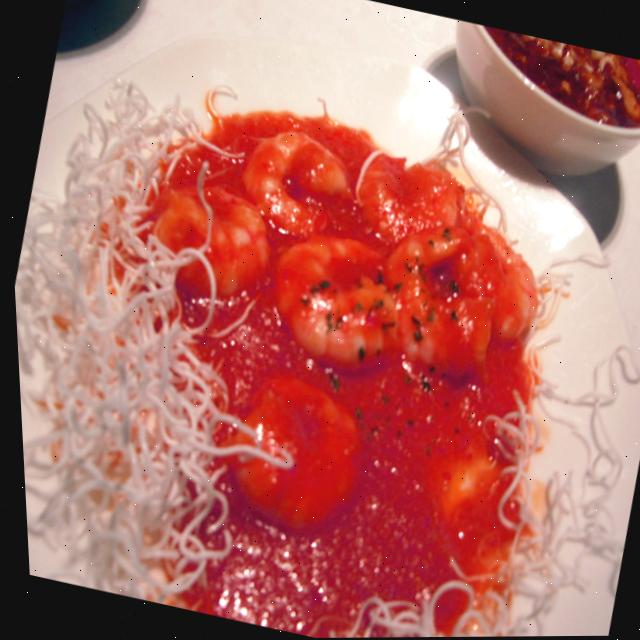熟制海鲜: (2, 43, 640, 640)
